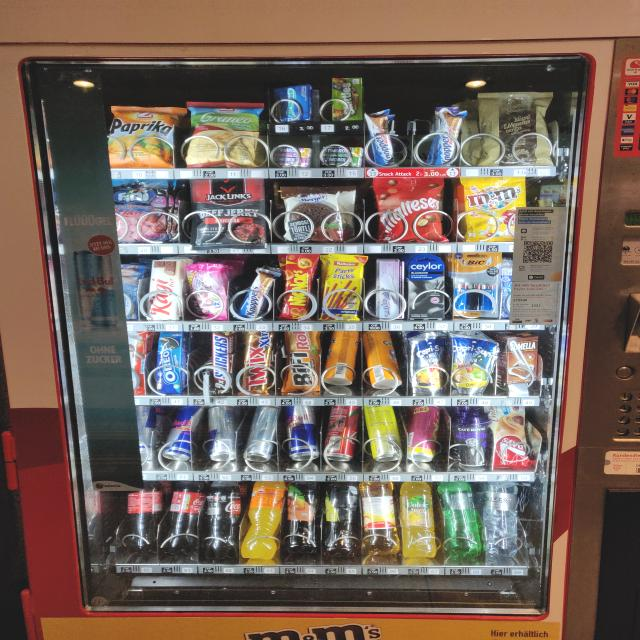7days_croissantschoko_packung_80_1_0000000000003: (485, 405, 530, 471)
airwaves_menthoneucalyptus_riegel_14_1_50173167: (270, 82, 314, 121)
bifi_roll__50__4251097402635: (282, 330, 323, 395)
c-swiss_dosenabisicetea__33__9120025930135: (324, 330, 363, 387), (368, 332, 402, 390)
caferoyal_classicmacchiato__33__7617014164487: (449, 408, 495, 468)
caprisun_multivitamin__20__4000177605004: (452, 332, 503, 394), (407, 329, 449, 397)
coke__dose_33__54491472: (319, 407, 362, 463)
coke__flasche_50__54491472: (158, 479, 205, 552), (118, 480, 165, 550)
coke_zero_flasche_50__5449000131836: (203, 478, 245, 555)
comella_schokodrink__33__7613100037253: (503, 336, 540, 386)
fanta___50__40822938: (240, 482, 287, 560)
fini_galaxymix_packung_100_1_8410525150364: (106, 181, 170, 246)
fini_jellykisses_packung_80_1_8410525116704: (186, 262, 228, 322)
fuse_lemon__50__5449000235947: (322, 482, 361, 560)
fuse_lemon_dose_33__5449000235947: (365, 405, 405, 467)
fuse_peach__50__5449000236623: (284, 482, 320, 558)
jacklinks_beefjerkyorginal__25__4047751730219: (190, 176, 268, 250)
jlbrichard_gauffrechoko__90__5410495002079: (473, 89, 556, 168)
kagi___50__7610046000259: (146, 259, 184, 320)
knoppers_riegel____4035800488808: (235, 267, 277, 325)
lorenz_nicnacs__40__4018077798818: (274, 252, 319, 324)
malburner_partysticks__40__7610200279682: (322, 256, 363, 324)
maltesers___100__5000159023061: (371, 174, 450, 244)
mnms_gelb__45__40111445: (466, 174, 530, 245)
oreo___66__84100733: (153, 332, 190, 394)
powerbar_proteinplusschoko__55__4029679520028: (116, 259, 151, 317)
ramseier_schorle__50__7610057012456: (358, 478, 402, 557)
redbull___33__90162909: (154, 410, 201, 462), (282, 405, 322, 464), (203, 405, 243, 463)
redbull_light__33__90162800: (242, 406, 278, 462)
skittles_sour_riegel_51_1_0000000000004: (327, 77, 367, 121)
snickers___50__5000159461122: (211, 327, 237, 397)
stimorol_spearmint_riegel_14_1_0000000000005: (323, 144, 365, 166)
stimorol_wildcherry_riegel_14_1_57060330: (267, 145, 314, 169)
tiki_himbeer_brause__50__00000000009342: (403, 404, 443, 466)
twix___50__5000159459228: (237, 329, 274, 395)
valser_classic__50__76404160: (437, 481, 482, 559)
valser_still__50__7610335002575: (479, 480, 526, 558)
volvic_pinapple__50__305764335648: (396, 479, 441, 559)
zweifel_graneochilli__100__7610095184009: (176, 99, 268, 168)
zweifel_paprika__90__7610095013002: (104, 103, 182, 169)
